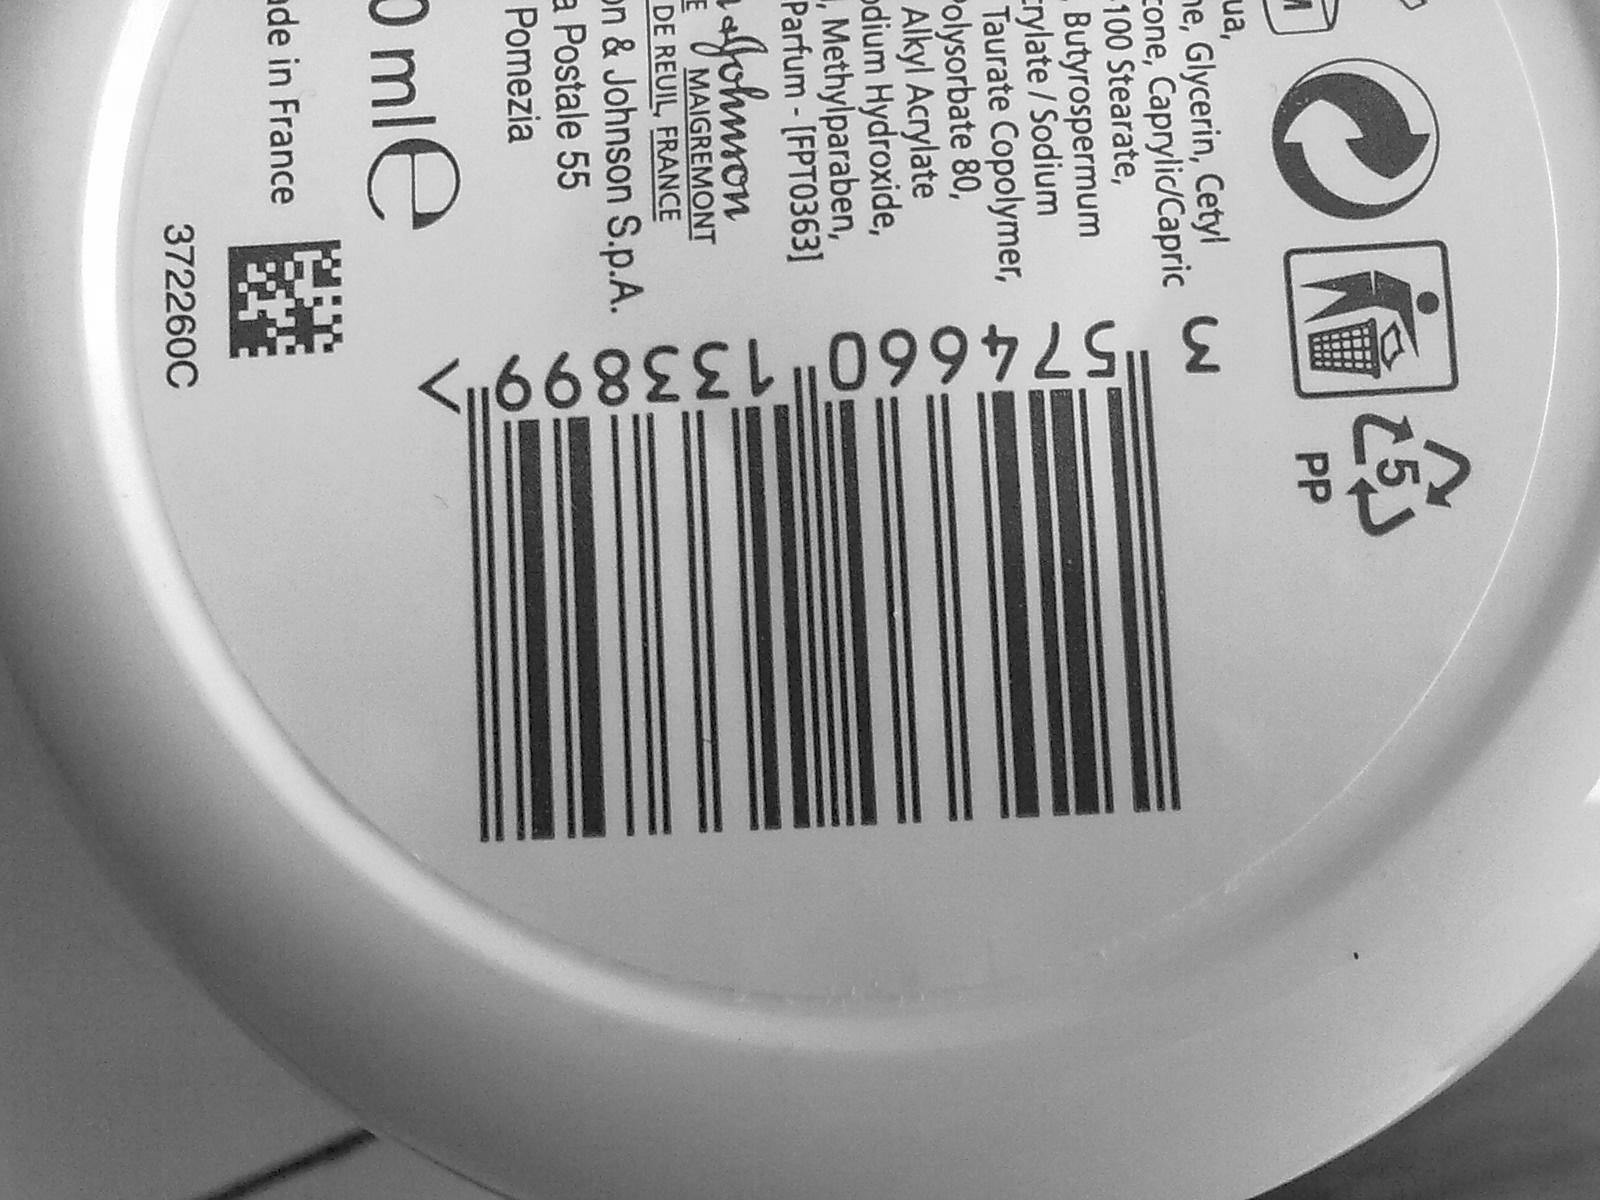Barcode: (448, 387, 1181, 863)
